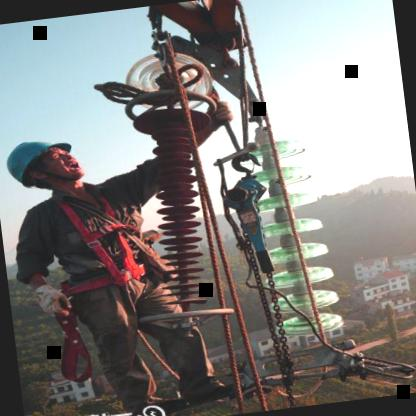helmet: (5, 120, 93, 198)
